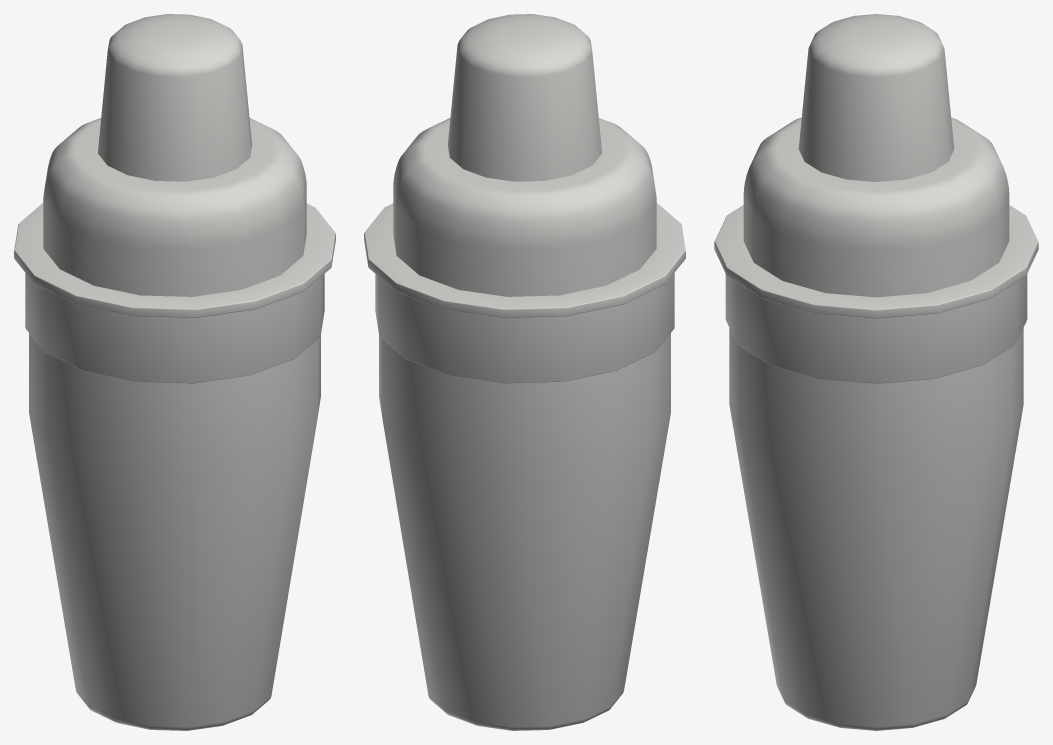
Rendered from Shaker01.FBX.
The picture shows the model from 3 angles, left to right: view 1: azimuth 30°, elevation 25°; view 2: azimuth 150°, elevation 25°; view 3: azimuth 270°, elevation 25°; orthographic projection.
Visible parts, largest first — view 1: Shaker01; view 2: Shaker01; view 3: Shaker01.
Boxes of the visible parts, left/top/right/bottom form: Shaker01: left=14, top=14, right=335, bottom=730; Shaker01: left=364, top=14, right=685, bottom=730; Shaker01: left=714, top=14, right=1038, bottom=730.
Size of the model in its own units: 11.37 by 25.6 by 11.37.
